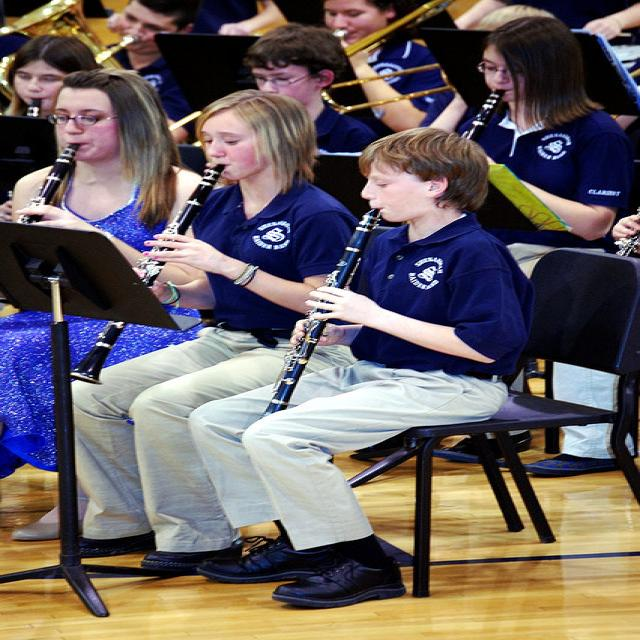clarinet: (70, 164, 230, 386), (262, 206, 384, 422), (12, 142, 78, 228), (459, 88, 505, 140), (22, 95, 48, 119)
